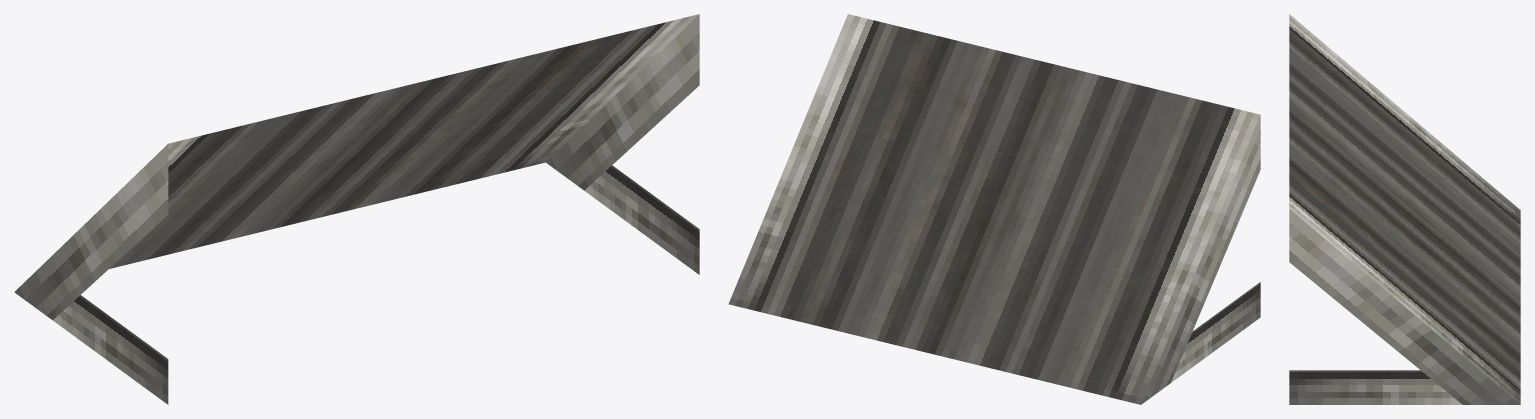
Rendered from detail-awning-small.opt.glb.
3 views of the same model, side by side, from view 1: azimuth 30°, elevation 25°; view 2: azimuth 150°, elevation 25°; view 3: azimuth 270°, elevation 25° (orthographic). The views are drawn at different scales.
Size of the model in its own units: 0.5978 by 0.2808 by 0.3.
1 material, 1 textured.
